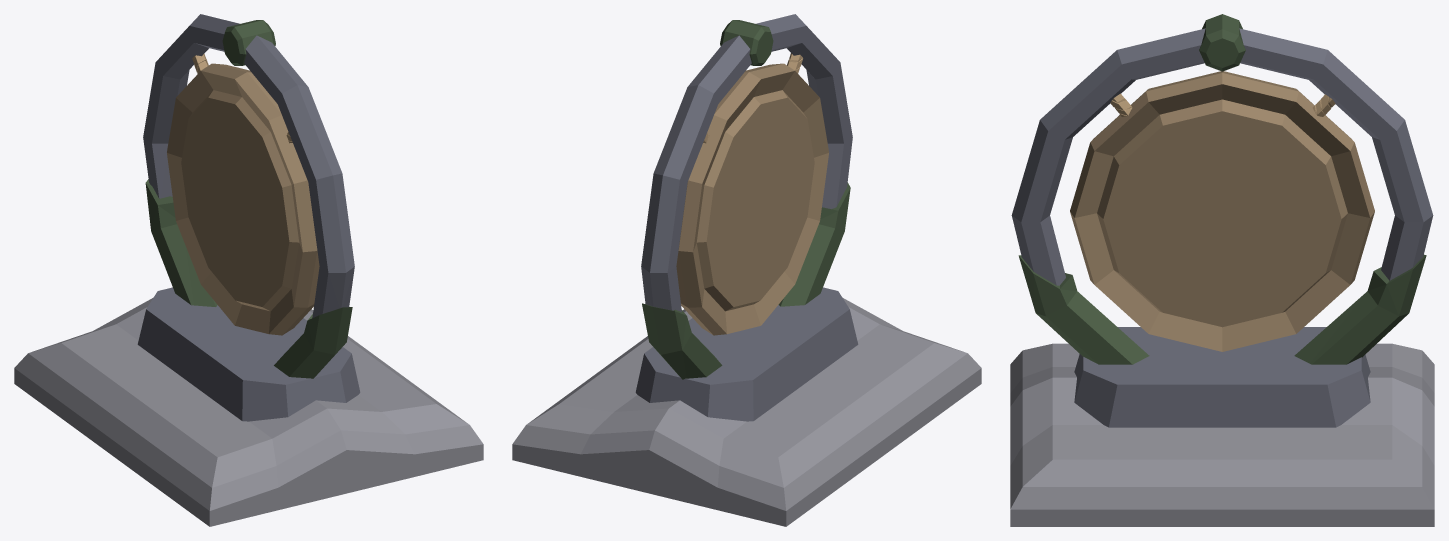
Rendered from _fire_bell_1.fbx.
The picture shows the model from 3 angles, left to right: view 1: azimuth 30°, elevation 25°; view 2: azimuth 150°, elevation 25°; view 3: azimuth 270°, elevation 25°; orthographic projection. The views are drawn at different scales.
Visible parts, largest first — view 1: fire_bell_1; view 2: fire_bell_1; view 3: fire_bell_1.
Boxes of the visible parts, x1,y1,x2,y2 form: fire_bell_1: (14,14,483,526); fire_bell_1: (512,14,981,526); fire_bell_1: (1010,14,1434,526).
Size of the model in its own units: 285 by 396 by 352.
